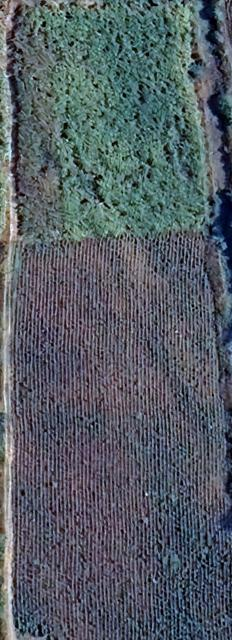Farms: (15, 235, 229, 640), (8, 0, 209, 241)
